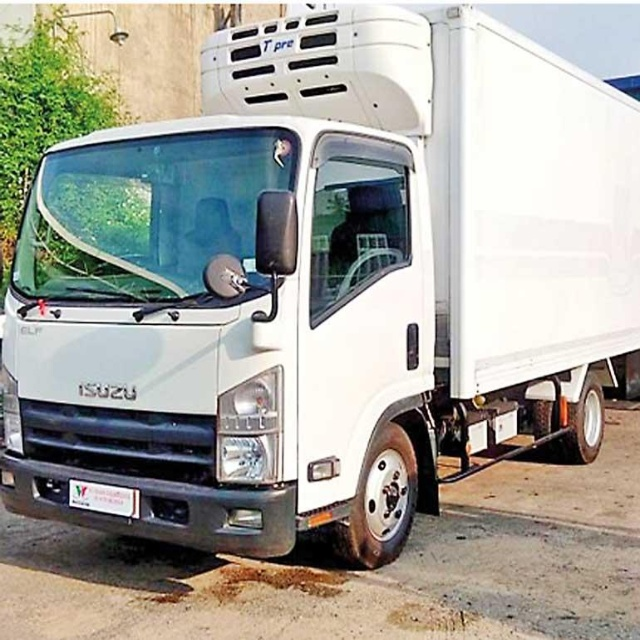Truck: (1, 5, 640, 571)
